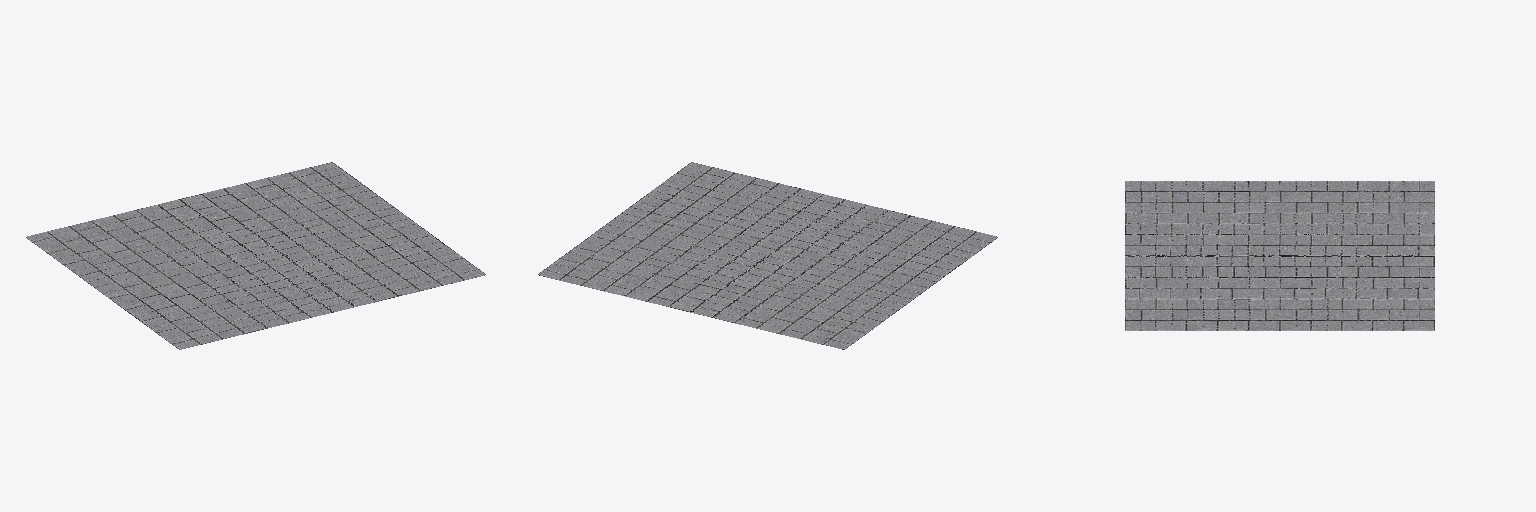
3 views of the same model, side by side, from view 1: azimuth 30°, elevation 25°; view 2: azimuth 150°, elevation 25°; view 3: azimuth 270°, elevation 25° (orthographic).
Visible parts, largest first — view 1: Box001; view 2: Box001; view 3: Box001.
Boxes of the visible parts, box(x1,y1,x2,y2) form: Box001: box(26, 162, 485, 349); Box001: box(538, 162, 997, 349); Box001: box(1125, 181, 1434, 330).
Size of the model in its own units: 1.29 by 0 by 1.12.
Materials: 1 (1 with a texture image).